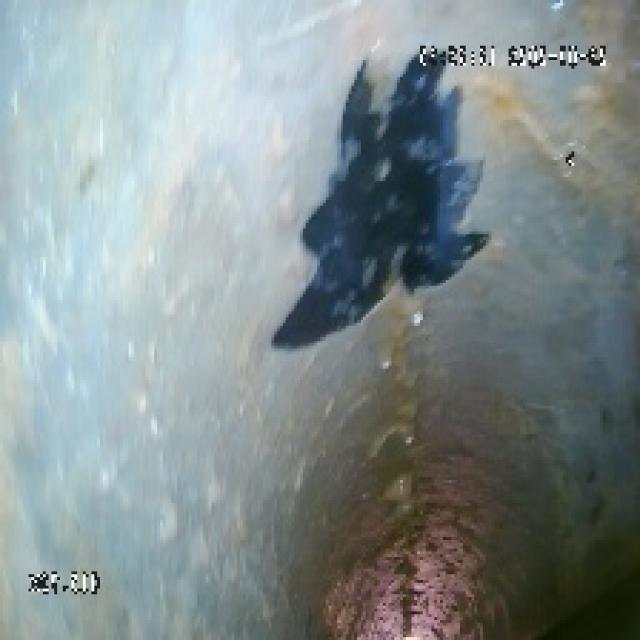pipe_surface_damage: (263, 46, 491, 363)
